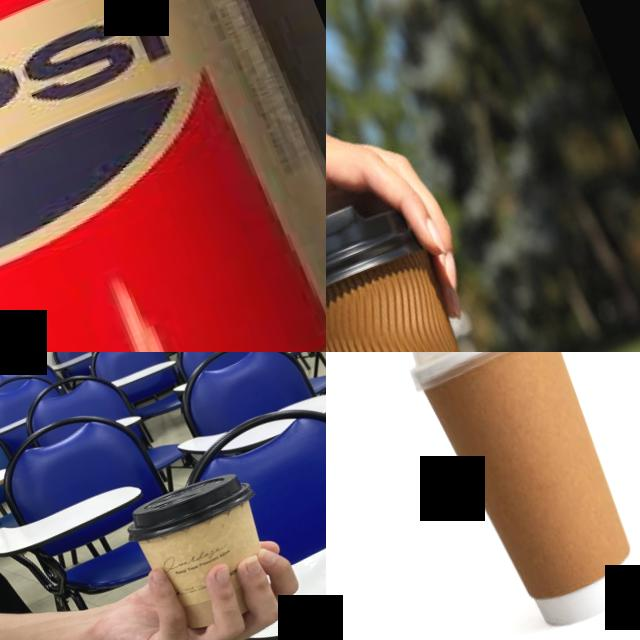can: (0, 0, 326, 352)
cup: (382, 352, 640, 640), (326, 178, 545, 352), (117, 459, 297, 640)
